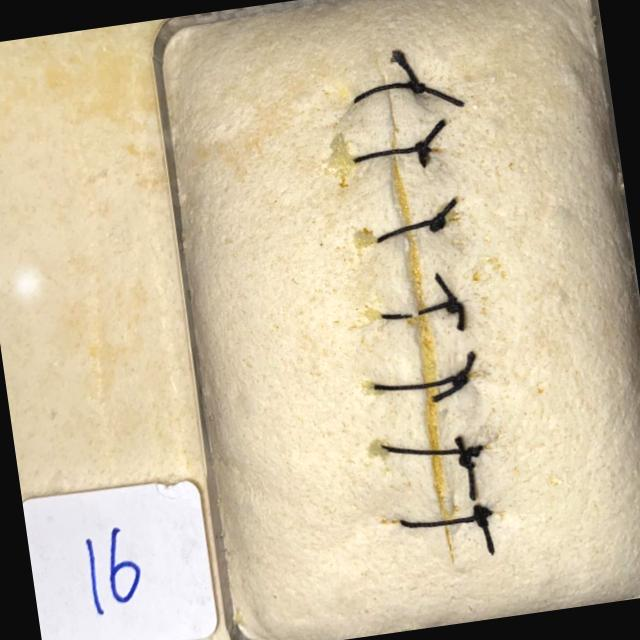knot: (460, 446, 483, 469), (474, 507, 492, 528), (431, 214, 445, 232), (416, 142, 431, 157), (454, 373, 467, 389), (447, 299, 460, 313), (409, 82, 425, 93)
leftover: (413, 82, 466, 108), (390, 49, 418, 87), (420, 118, 446, 152), (459, 448, 475, 503), (431, 375, 462, 403), (478, 512, 495, 557), (433, 270, 455, 303), (435, 197, 457, 224), (457, 349, 473, 381), (450, 297, 464, 332), (412, 218, 439, 230), (419, 147, 428, 168), (473, 503, 483, 518), (456, 437, 464, 454)
stitch: (378, 295, 459, 320), (375, 217, 447, 244), (352, 81, 427, 105), (398, 510, 494, 528), (372, 373, 468, 391), (351, 147, 433, 164), (379, 443, 484, 456)
wound: (374, 54, 456, 567)
